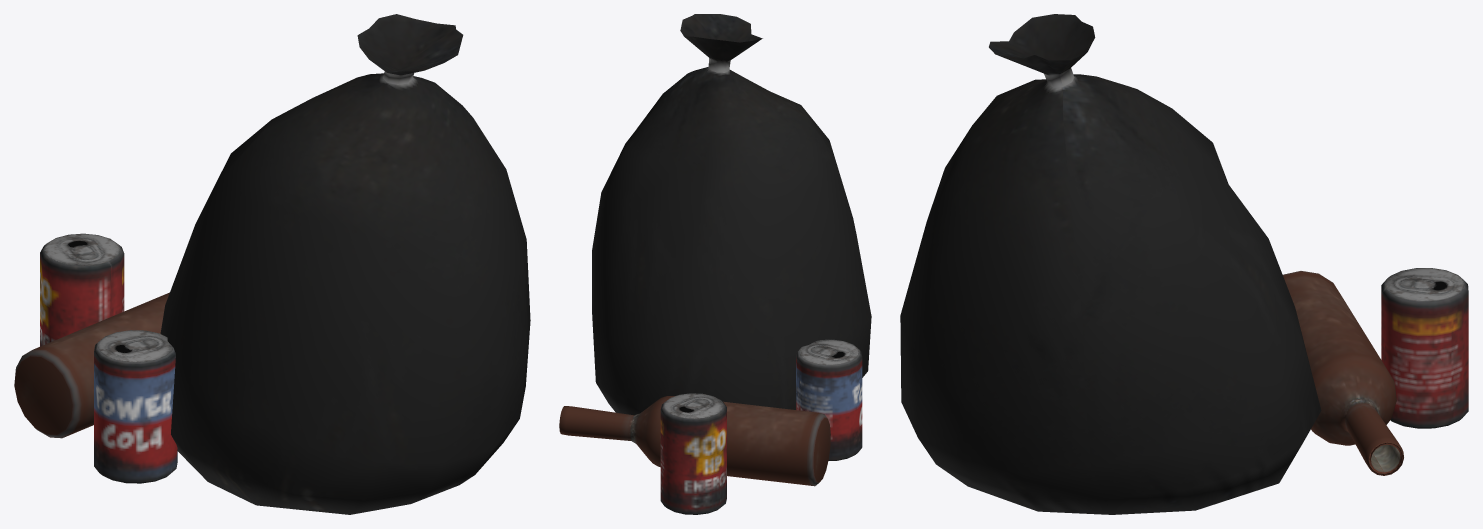
File: Garbage_02.fbx
3 renders of one model, left to right at view 1: azimuth 30°, elevation 25°; view 2: azimuth 150°, elevation 25°; view 3: azimuth 270°, elevation 25°, orthographic. The views are drawn at different scales.
Visible parts, largest first — view 1: polySurface1143; view 2: polySurface1143; view 3: polySurface1143.
Boxes of the visible parts, bbox=[...] form: polySurface1143: bbox=[14, 14, 530, 514]; polySurface1143: bbox=[559, 14, 871, 514]; polySurface1143: bbox=[900, 14, 1468, 514].
Bounding box in the file's own units: 106 × 117 × 130.
